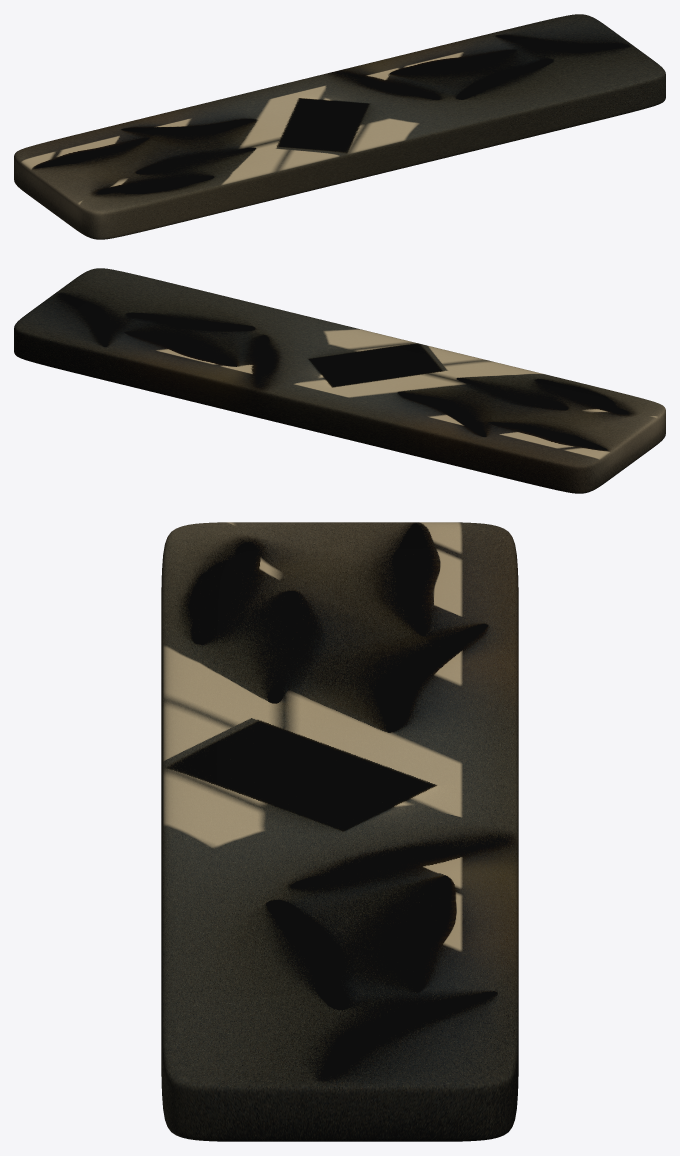
File: cushion_Cube.006.glb
3 renders of one model, top to bottom at view 1: azimuth 30°, elevation 25°; view 2: azimuth 150°, elevation 25°; view 3: azimuth 270°, elevation 25°, orthographic. The views are drawn at different scales.
Visible parts, largest first — view 1: cushion_Cube.006; view 2: cushion_Cube.006; view 3: cushion_Cube.006.
Part boxes in pixels (left/top/right/bottom): cushion_Cube.006: left=14, top=14, right=665, bottom=239; cushion_Cube.006: left=14, top=268, right=665, bottom=493; cushion_Cube.006: left=161, top=522, right=518, bottom=1141.
Bounding box in the file's own units: 2.14 × 0.1074 × 0.5713.
Materials: 1 (1 with a texture image).
